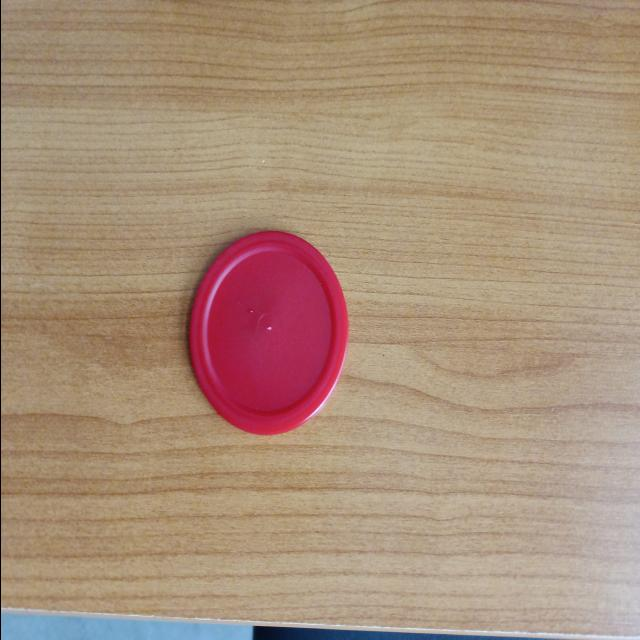chip: (187, 228, 348, 438)
